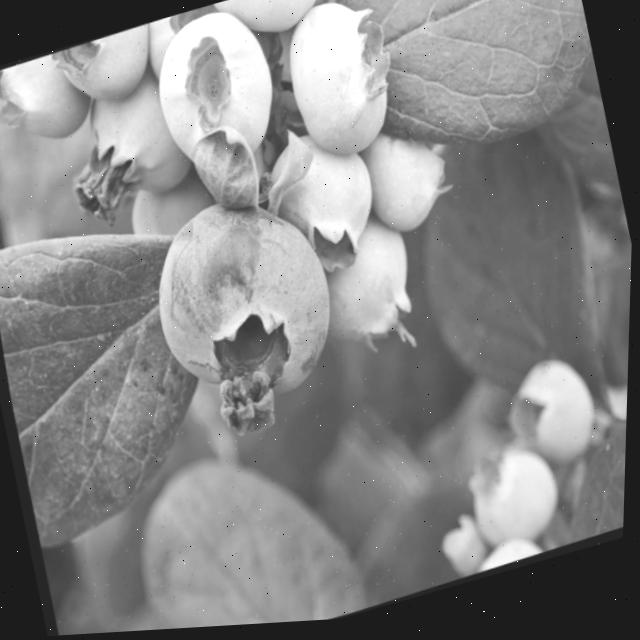RipeBlueBerry: (122, 173, 363, 463)
UnripeBlueBerry: (131, 0, 298, 194), (258, 0, 411, 176)
